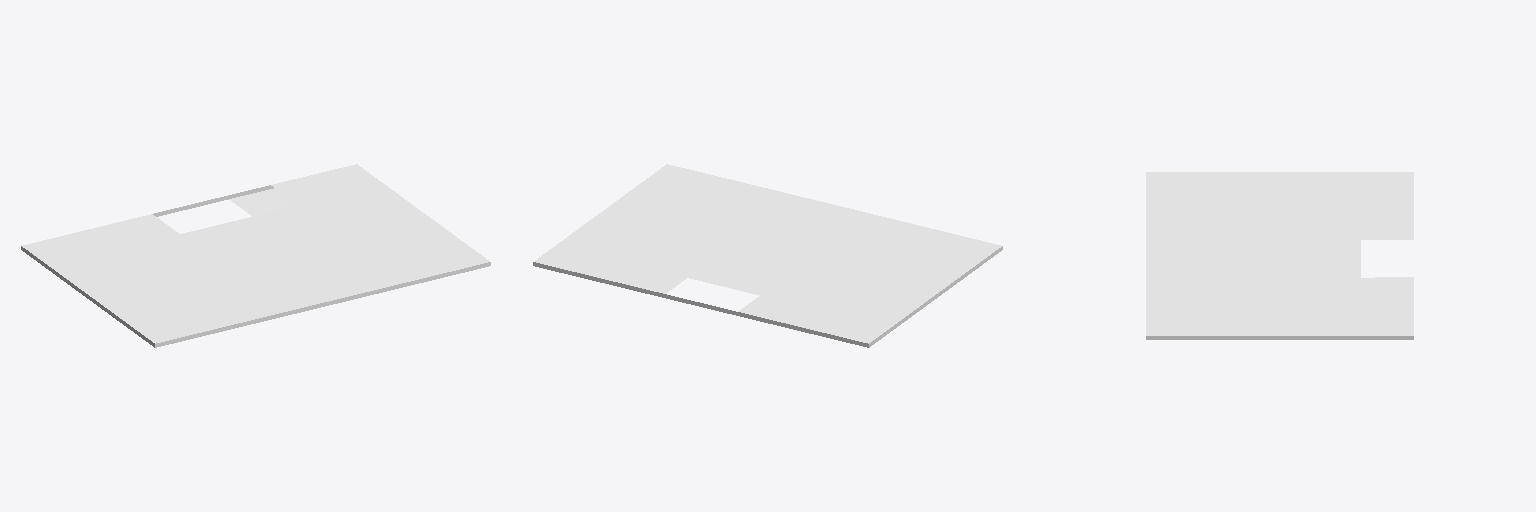
The model's file is Floors.obj.
3 renders of one model, left to right at view 1: azimuth 30°, elevation 25°; view 2: azimuth 150°, elevation 25°; view 3: azimuth 270°, elevation 25°, orthographic.
Parts seen in each view (by area): view 1: Floors; view 2: Floors; view 3: Floors.
Part boxes in pixels (x1,y1,x2,y2): Floors: (21, 164, 490, 347); Floors: (533, 164, 1002, 347); Floors: (1146, 172, 1413, 339).
Bounding box in the file's own units: 21 × 0.25 × 14.5.